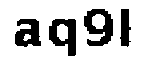9: (81, 7, 115, 48)
a: (9, 18, 42, 50)
l: (117, 7, 139, 57)
q: (47, 16, 80, 60)
